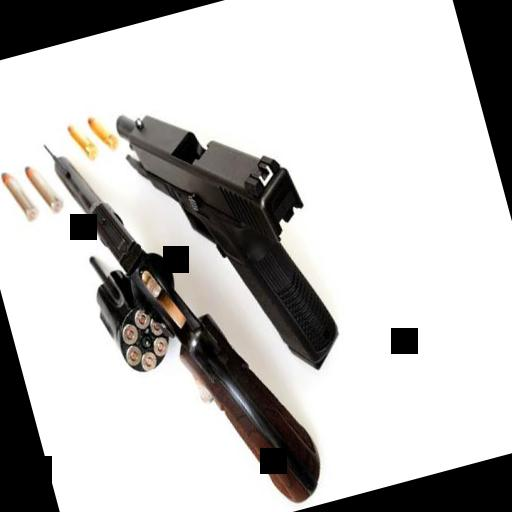Handgun: (38, 93, 327, 512), (110, 72, 346, 404)
